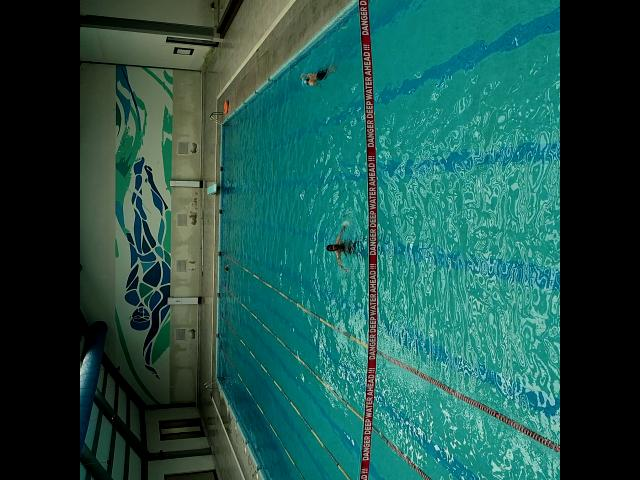swimming: (324, 223, 362, 273), (301, 69, 325, 85), (222, 262, 232, 274)
